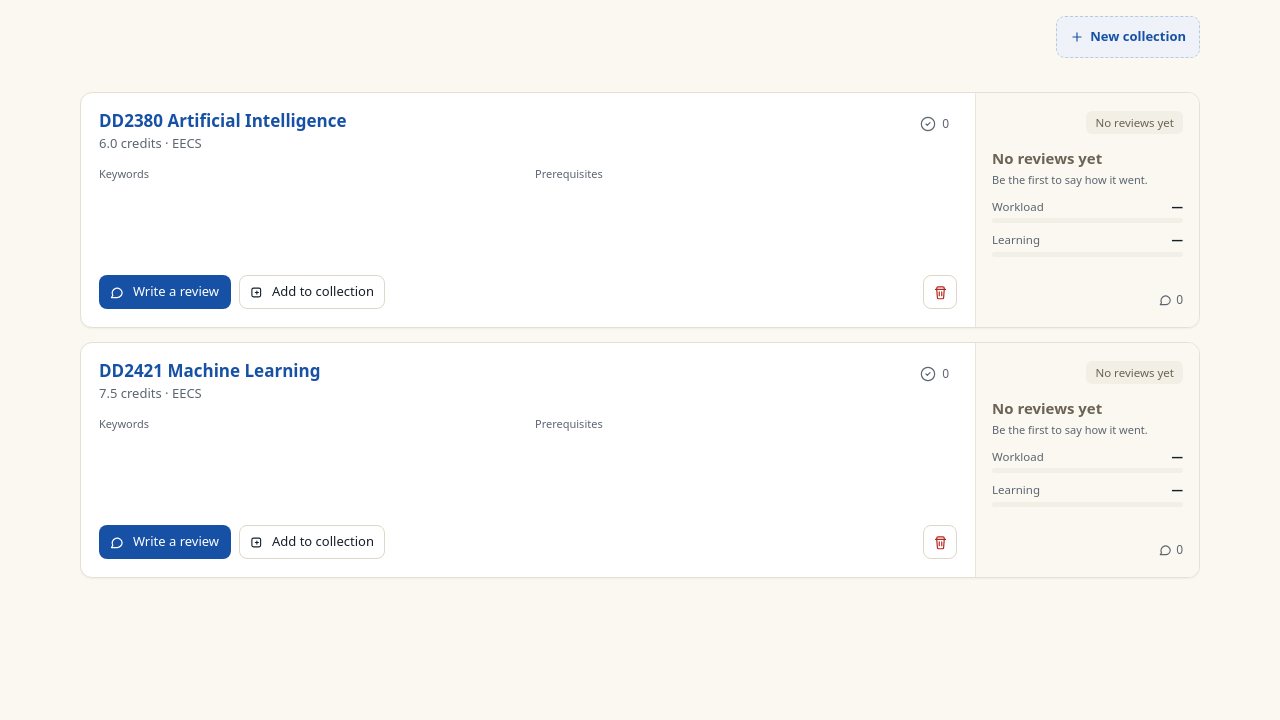
Scenario: Saved › unsaving › writes nothing when the reader keeps the course
Step 1. Click the button named "Remove DD2380 from saved courses" → (940, 292), box [923,275,957,309]
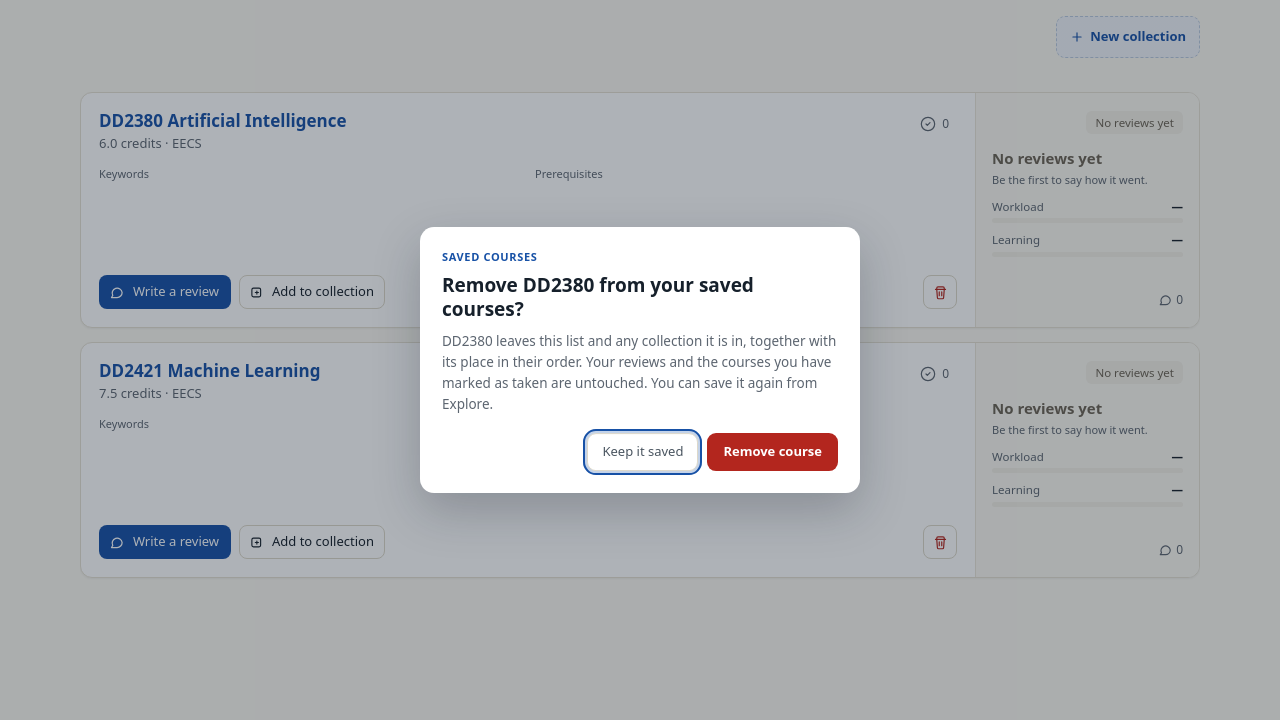
Step 2. Click the button "Keep it saved" → (643, 452), box [587,433,698,471]
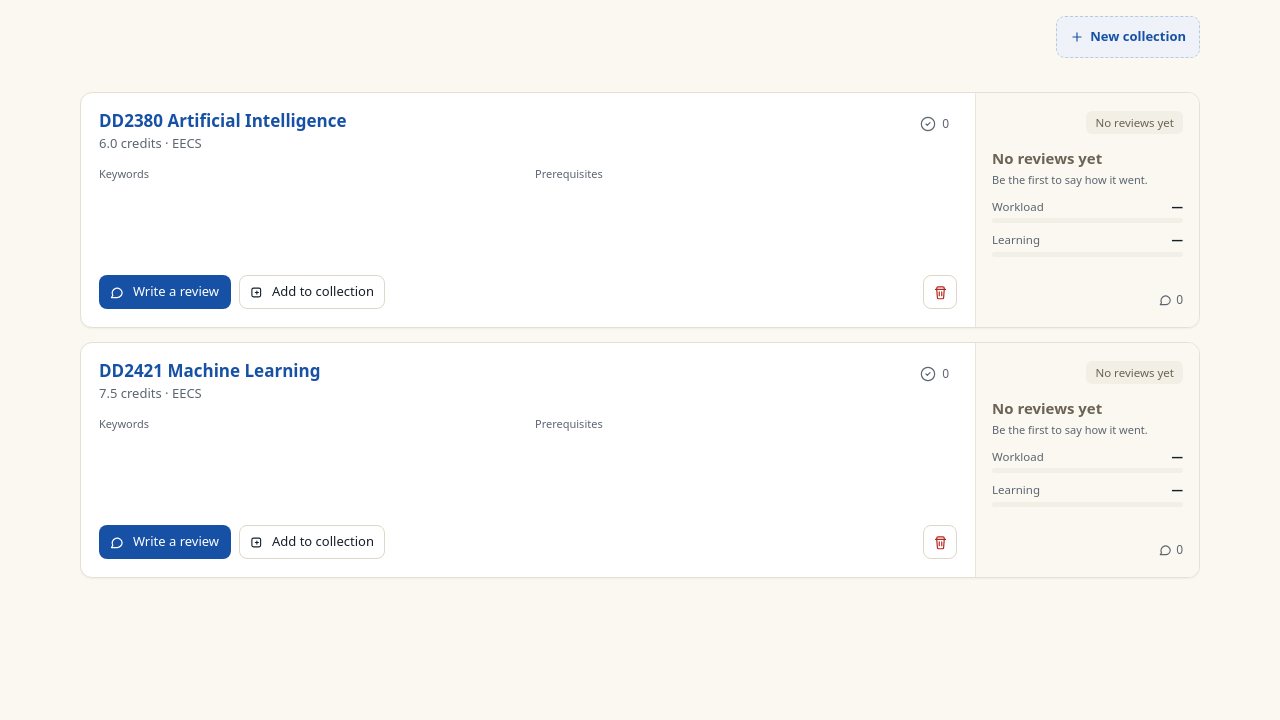
Expected: the element that starts with "DD2380 Artificial Intelligence" is shown, [80,92,1200,328]
Expected: the heading "Remove DD2380 from your saved courses?" is gone
